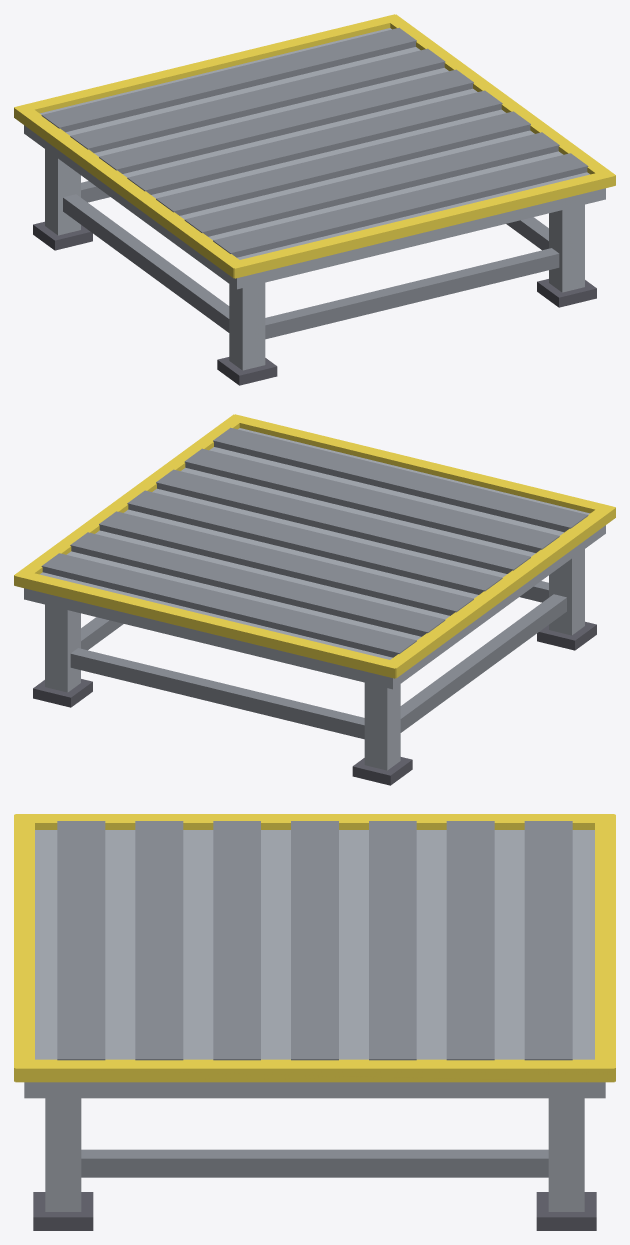
Rendered from platform.glb.
3 renders of one model, top to bottom at view 1: azimuth 30°, elevation 25°; view 2: azimuth 150°, elevation 25°; view 3: azimuth 270°, elevation 25°, orthographic. The views are drawn at different scales.
Parts seen in each view (by area): view 1: platform; view 2: platform; view 3: platform.
Part boxes in pixels (bbox=[...]): platform: bbox=[14, 14, 615, 385]; platform: bbox=[14, 414, 615, 785]; platform: bbox=[14, 814, 615, 1230].
Size of the model in its own units: 2 by 0.63 by 2.
